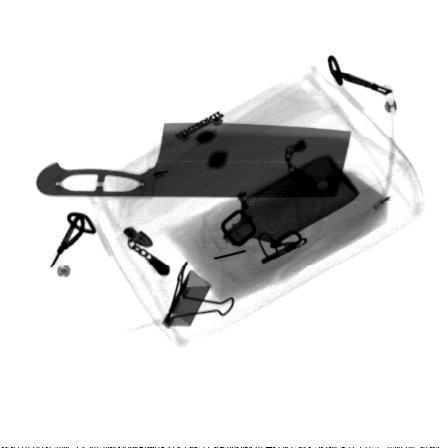Knife: (36, 121, 354, 199)
